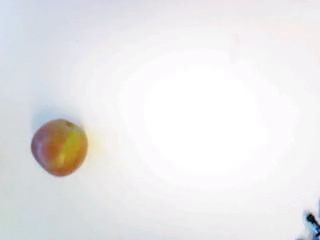apple: (29, 117, 88, 177)
